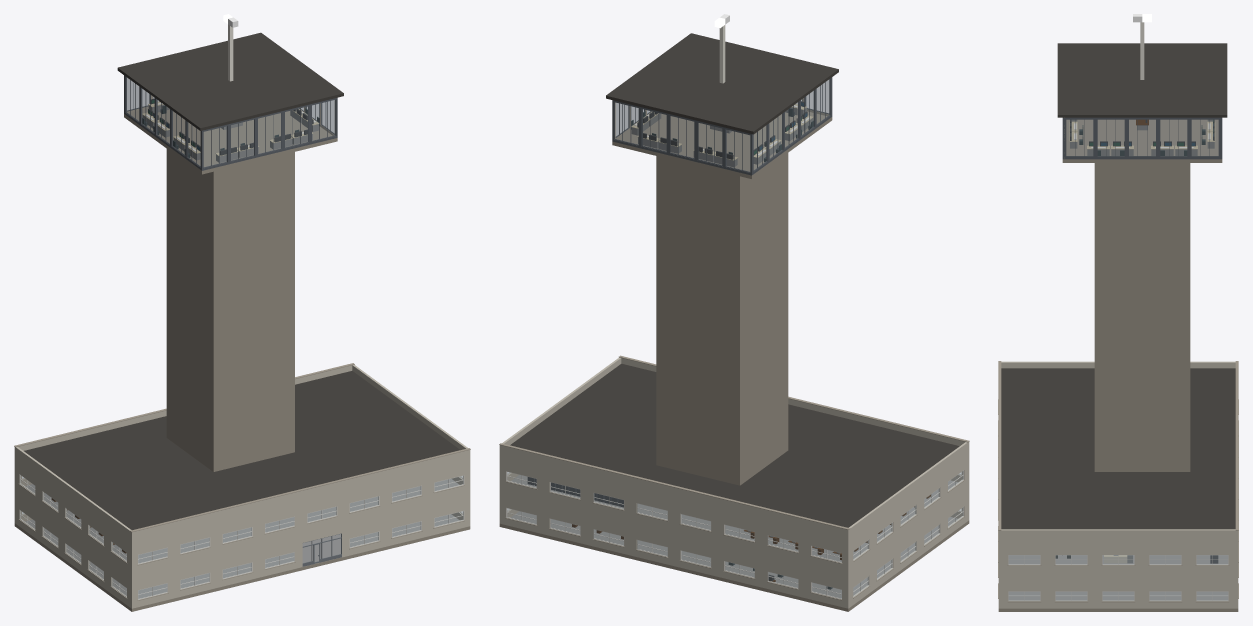
The model's file is control_tower.glb.
3 views of the same model, side by side, from view 1: azimuth 30°, elevation 25°; view 2: azimuth 150°, elevation 25°; view 3: azimuth 270°, elevation 25° (orthographic). The views are drawn at different scales.
Parts seen in each view (by area): view 1: LOD0, FURN; view 2: LOD0, FURN; view 3: LOD0, FURN.
Part boxes in pixels (left/top/right/bottom): LOD0: left=14, top=14, right=470, bottom=611; FURN: left=51, top=98, right=319, bottom=553; LOD0: left=499, top=14, right=969, bottom=611; FURN: left=527, top=101, right=930, bottom=589; LOD0: left=998, top=14, right=1238, bottom=611; FURN: left=1055, top=119, right=1218, bottom=563.
Size of what is drawn, in the model's own units: 50.12 by 70.7 by 30.12.
